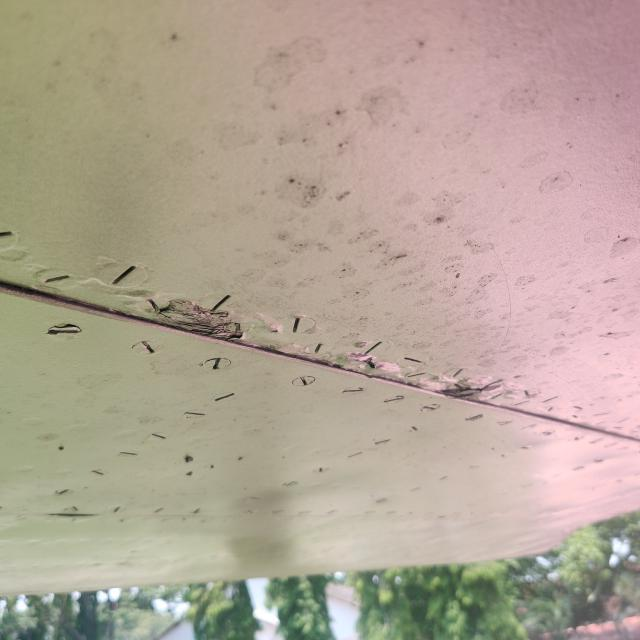Paint-off: (148, 295, 242, 340)
